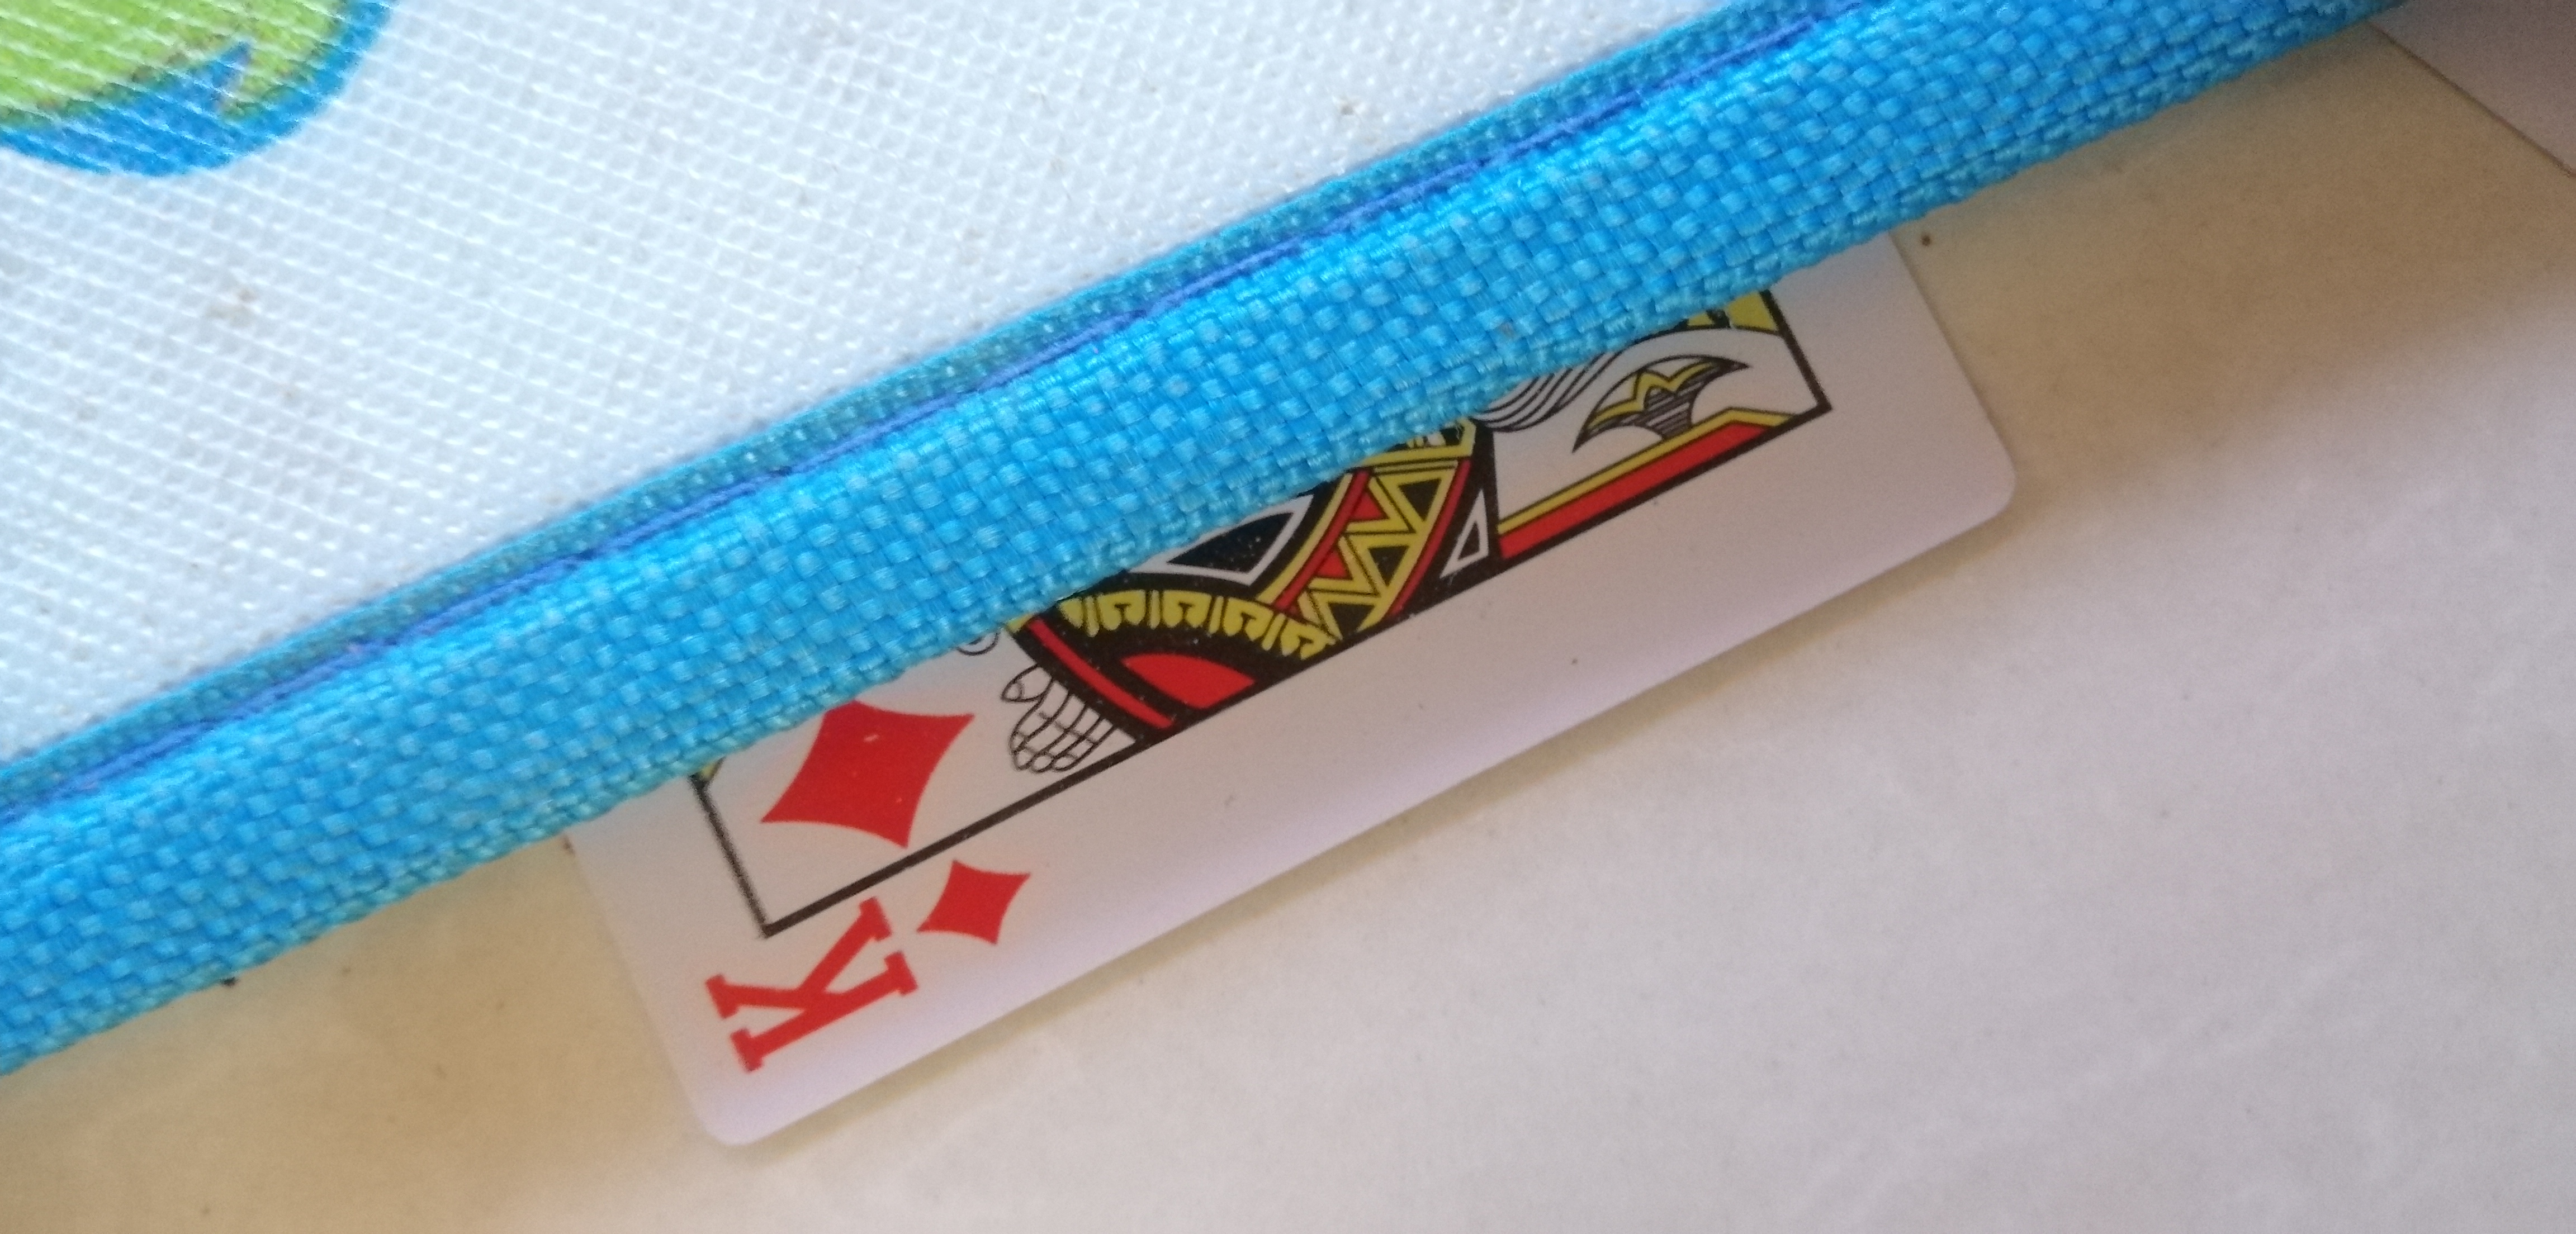king: (370, 253, 2088, 1195)
